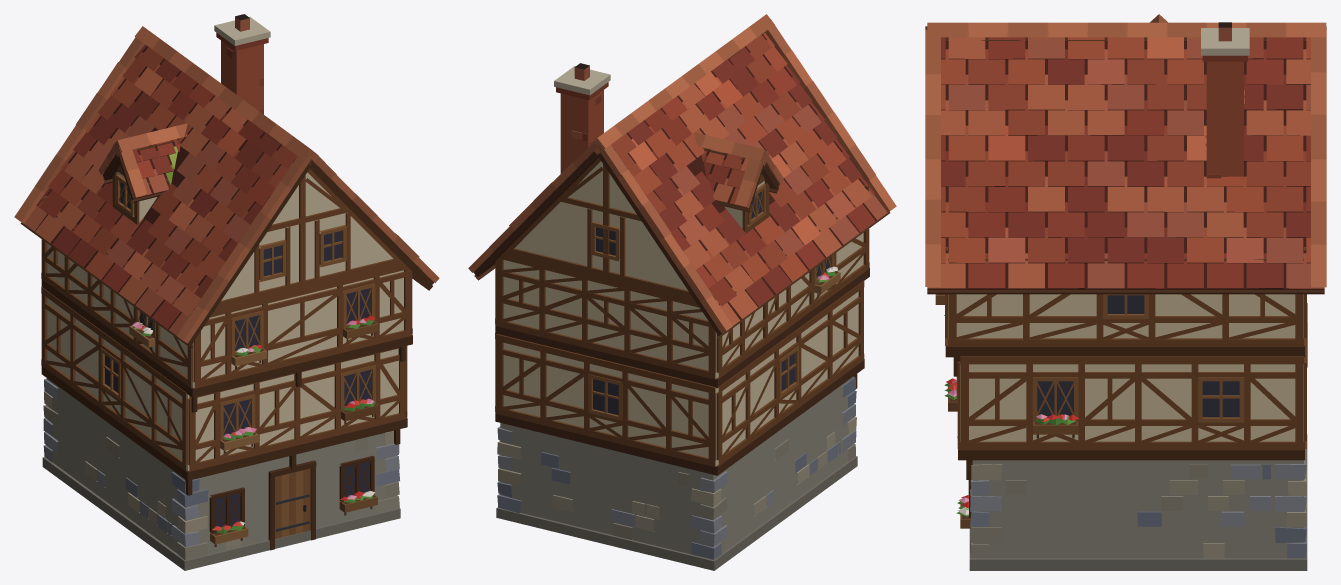
The model's file is town_house_red.glb.
3 renders of one model, left to right at view 1: azimuth 30°, elevation 25°; view 2: azimuth 150°, elevation 25°; view 3: azimuth 270°, elevation 25°, orthographic. The views are drawn at different scales.
Parts seen in each view (by area): view 1: town_house_red; view 2: town_house_red; view 3: town_house_red.
Boxes of the visible parts, x1=… form: town_house_red: x1=14, y1=14, x2=439, y2=570; town_house_red: x1=468, y1=14, x2=896, y2=570; town_house_red: x1=925, y1=14, x2=1326, y2=570.
Bounding box in the file's own units: 8.5 × 13.77 × 9.7.
